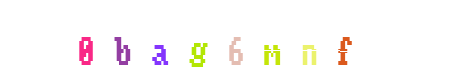0: (46, 0, 126, 80)
6: (186, 0, 266, 80)
A: (120, 0, 200, 80)
B: (82, 0, 162, 80)
F: (303, 0, 383, 80)
G: (179, 0, 259, 80)
M: (190, 0, 270, 80)
N: (250, 0, 330, 80)
